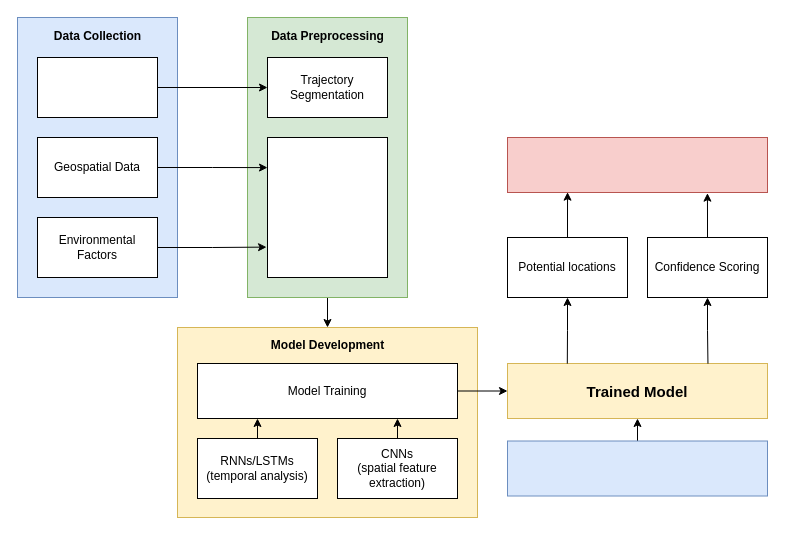
This 785x535 diagram has some shape labels left out. The shapes that lost their labels are listed below. From the top down, each one's centre as x and y in pixels, then its label:
At pixel 97 87: "Historical Movement Data".
At pixel 637 164: "Potential Location Map".
At pixel 327 207: "Cleaning and Normalization".
At pixel 637 468: "Real-time input data".
